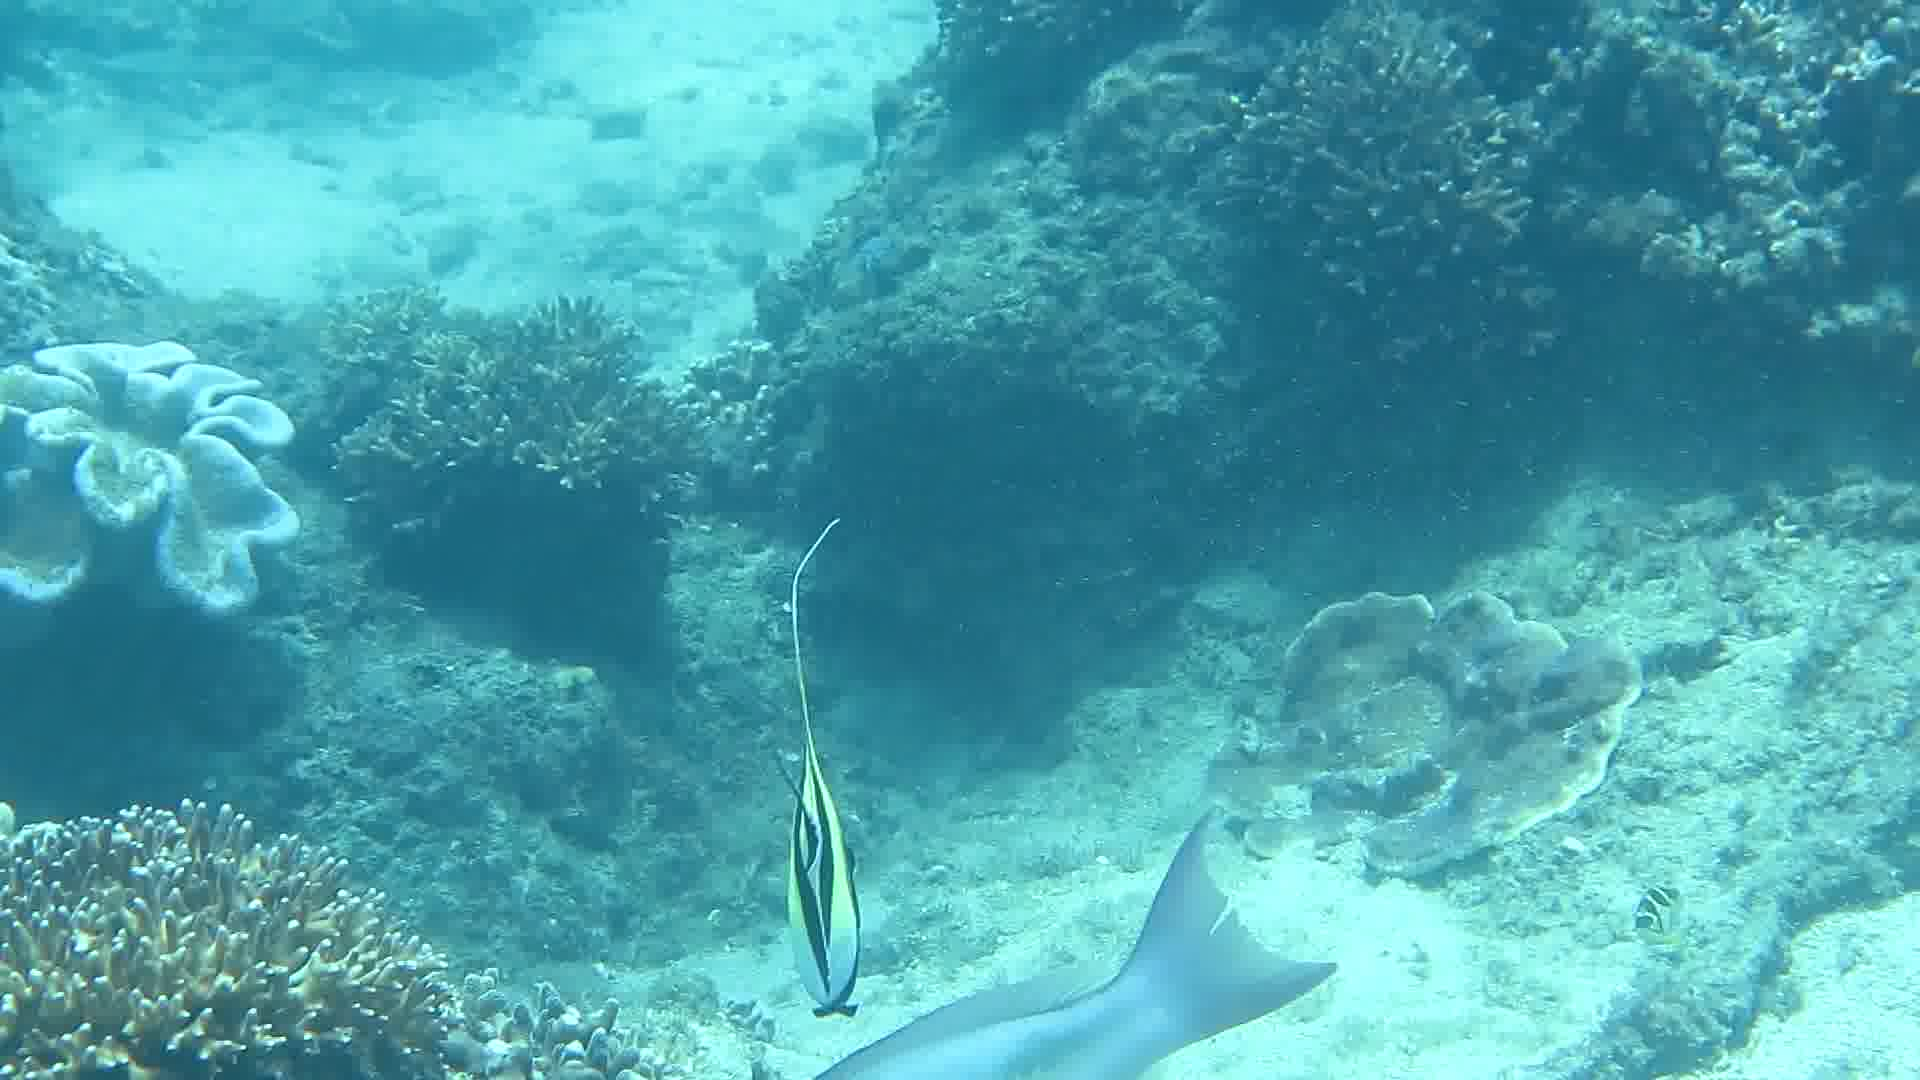Zanclus cornutus: (729, 687, 914, 1051)
